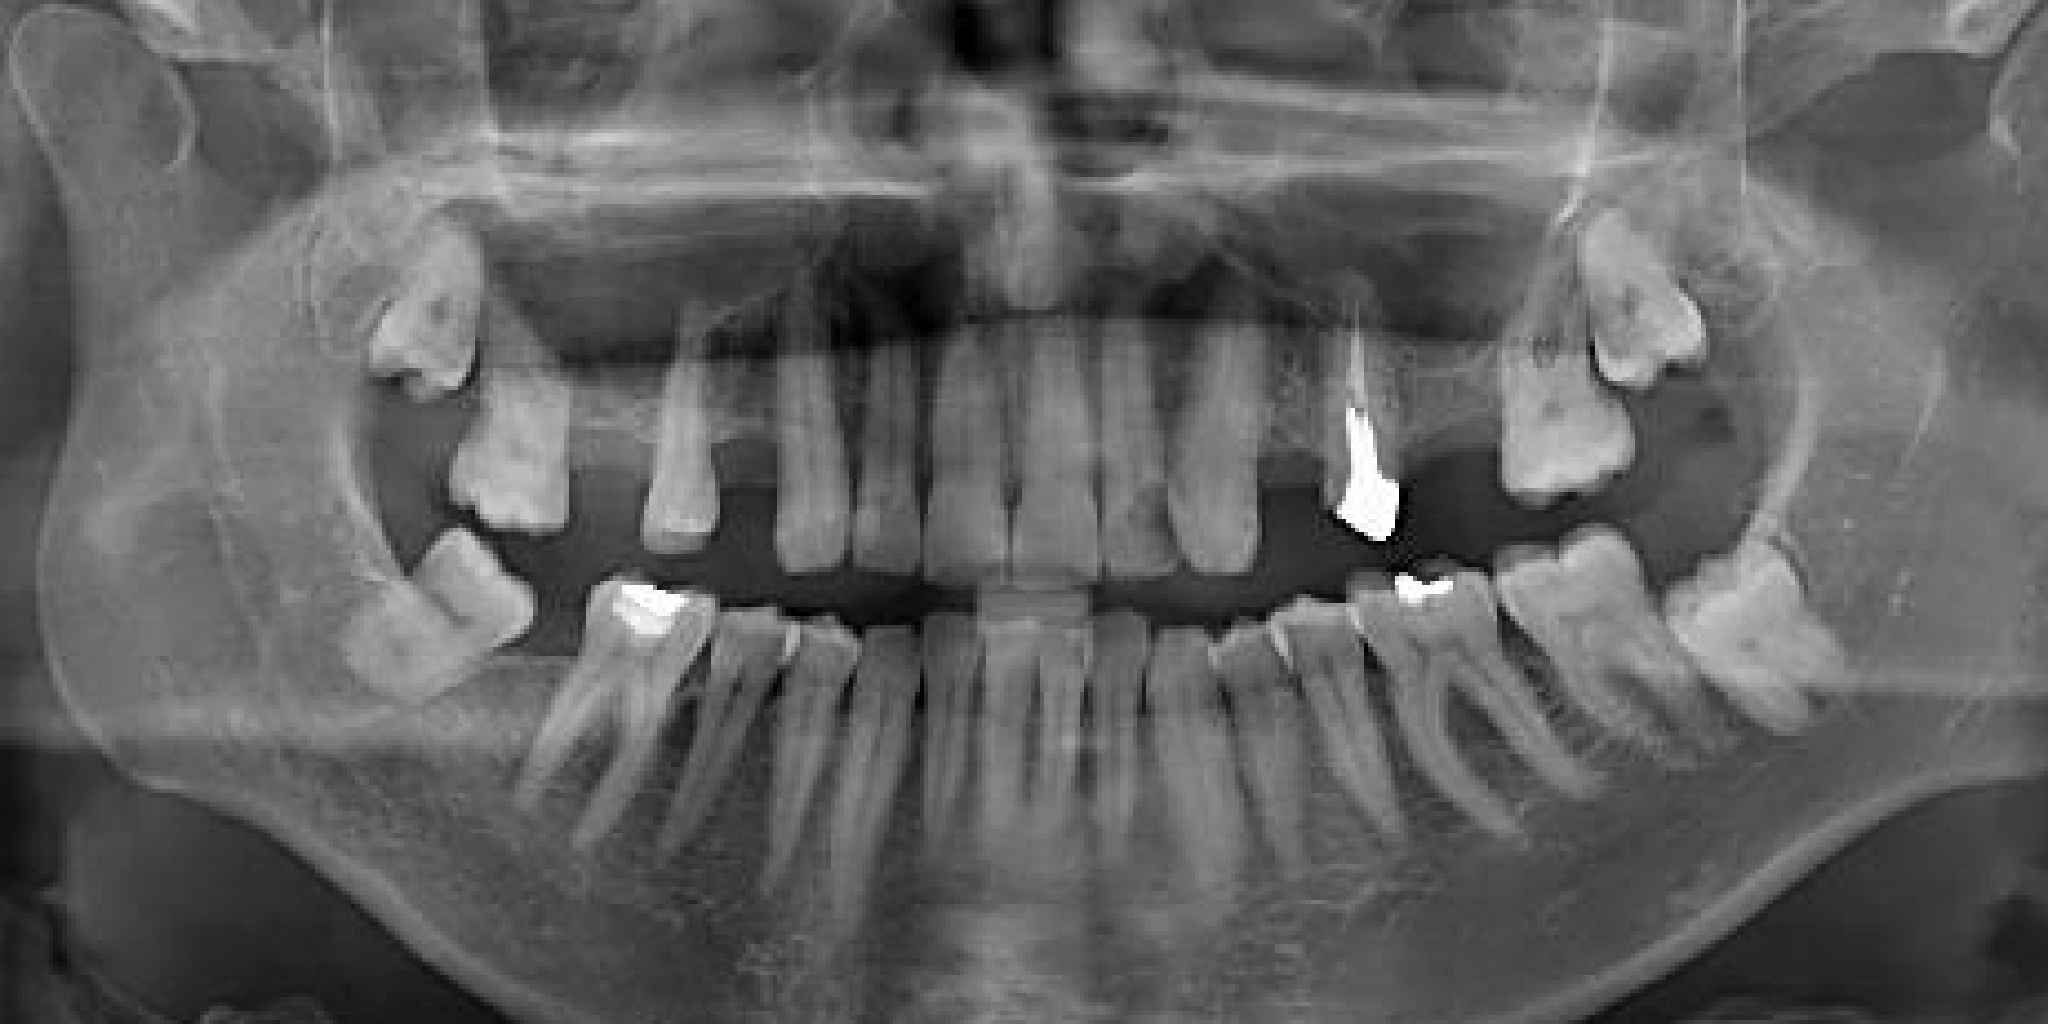Tooth: (1413, 443, 1835, 870), (231, 426, 603, 872), (537, 515, 888, 963), (1610, 451, 1929, 893), (640, 539, 943, 980), (456, 507, 759, 947), (295, 61, 592, 500), (1481, 44, 1772, 481), (910, 532, 1190, 965), (724, 579, 1002, 1012), (805, 536, 1071, 964), (377, 180, 637, 606), (869, 534, 1123, 957), (1237, 165, 1479, 584), (684, 199, 925, 616), (1014, 218, 1247, 633), (765, 206, 999, 622), (1447, 150, 1674, 563), (1006, 555, 1226, 965), (850, 235, 1071, 645), (947, 236, 1168, 647)
